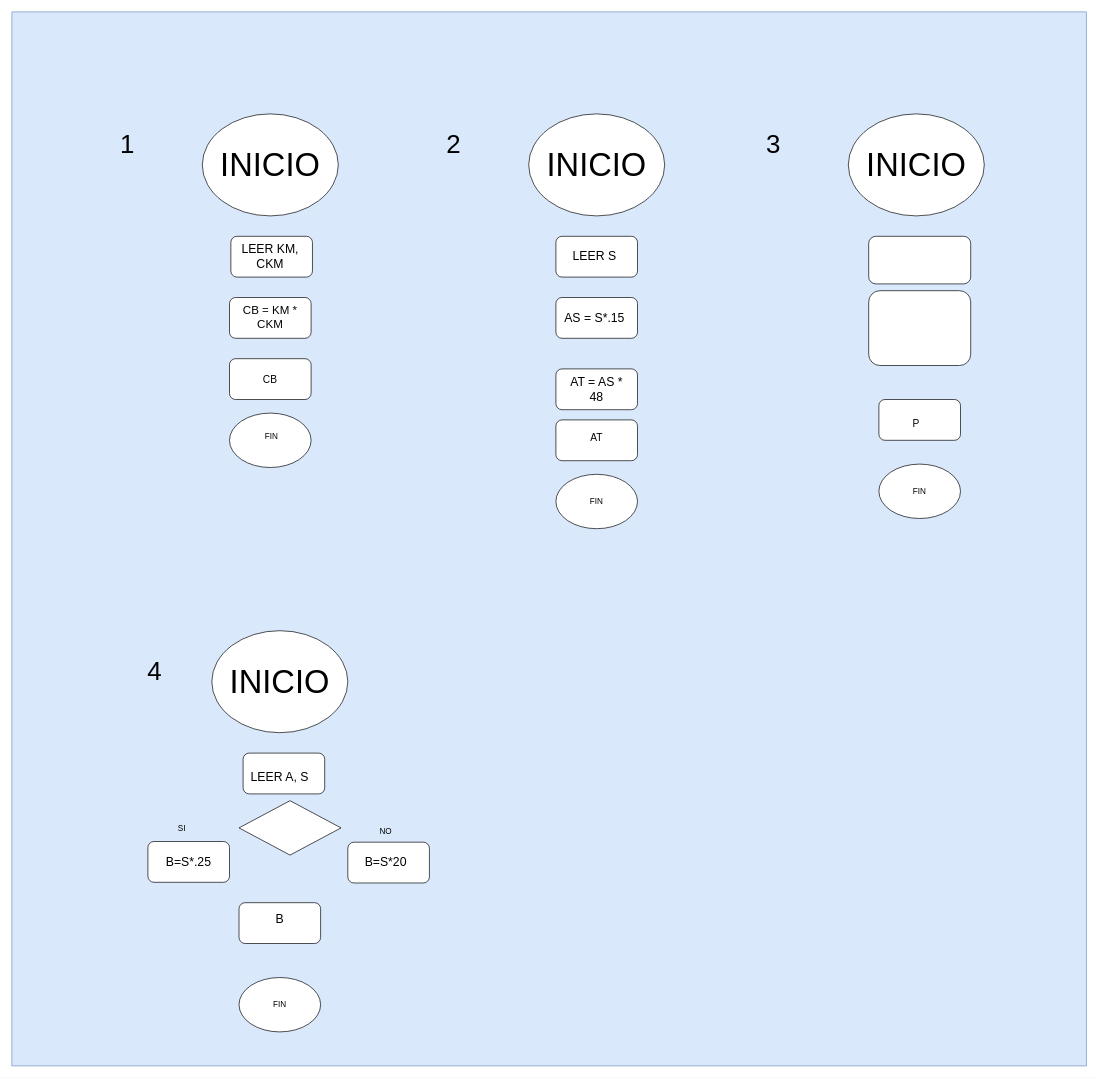
Some shapes in this 1098 by 1078 pixel diagram are drawn without their labels. The centre of each missing label's shape, as x and y in pixels:
"A>4 Y S < 2000" belongs at [289,827].
"LEER E1, E2, E3" belongs at [919,260].
"P= (E1*.25)+(E2*.25)+(E3*.50)" belongs at [919,328].
